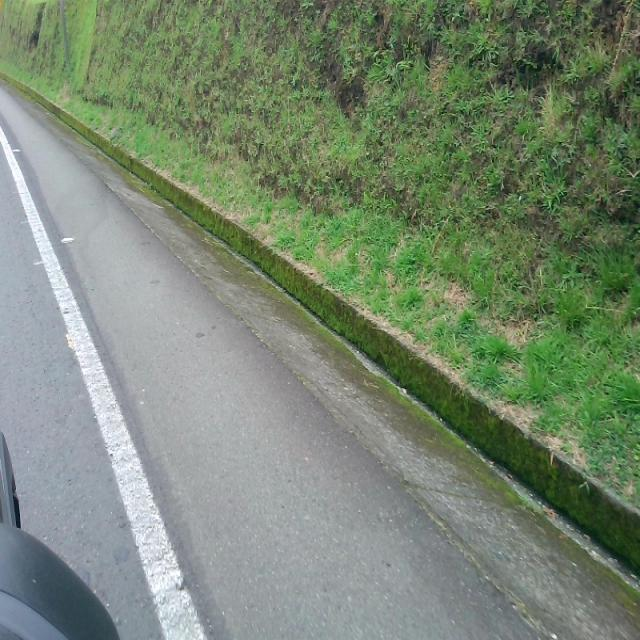DITCH: (7, 6, 638, 637), (1, 78, 639, 639)
